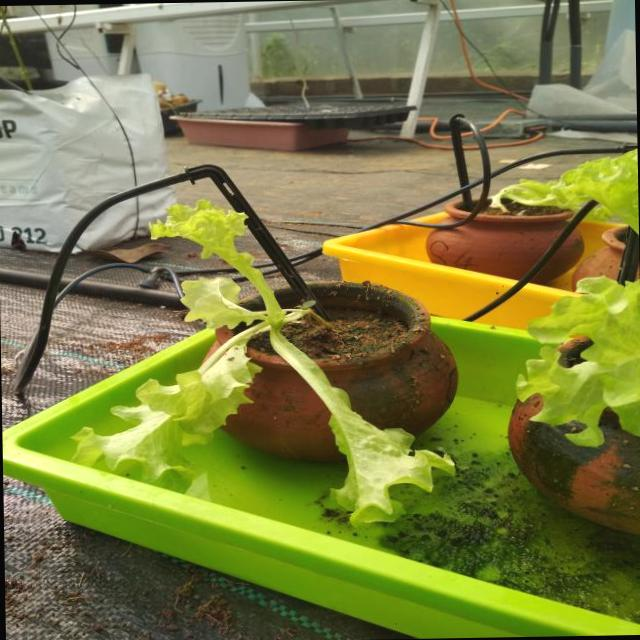Lettuce-Not-Ready-to-Harvest: (73, 201, 451, 522), (518, 277, 640, 446), (492, 148, 639, 233)
